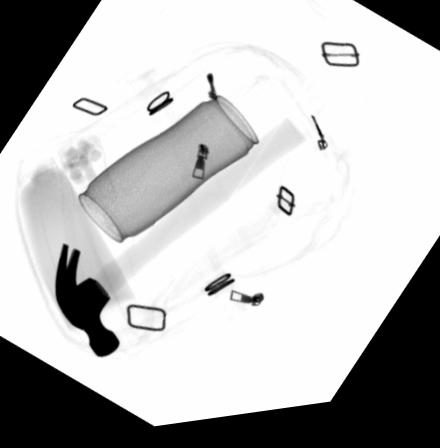Hammer: (53, 123, 309, 361)
